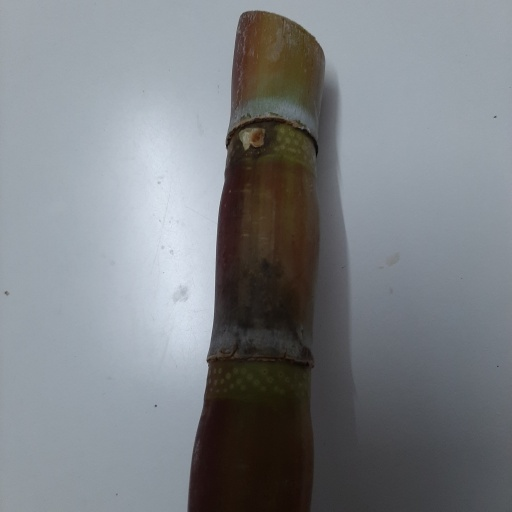Damage_Bud: (249, 127, 266, 151)
